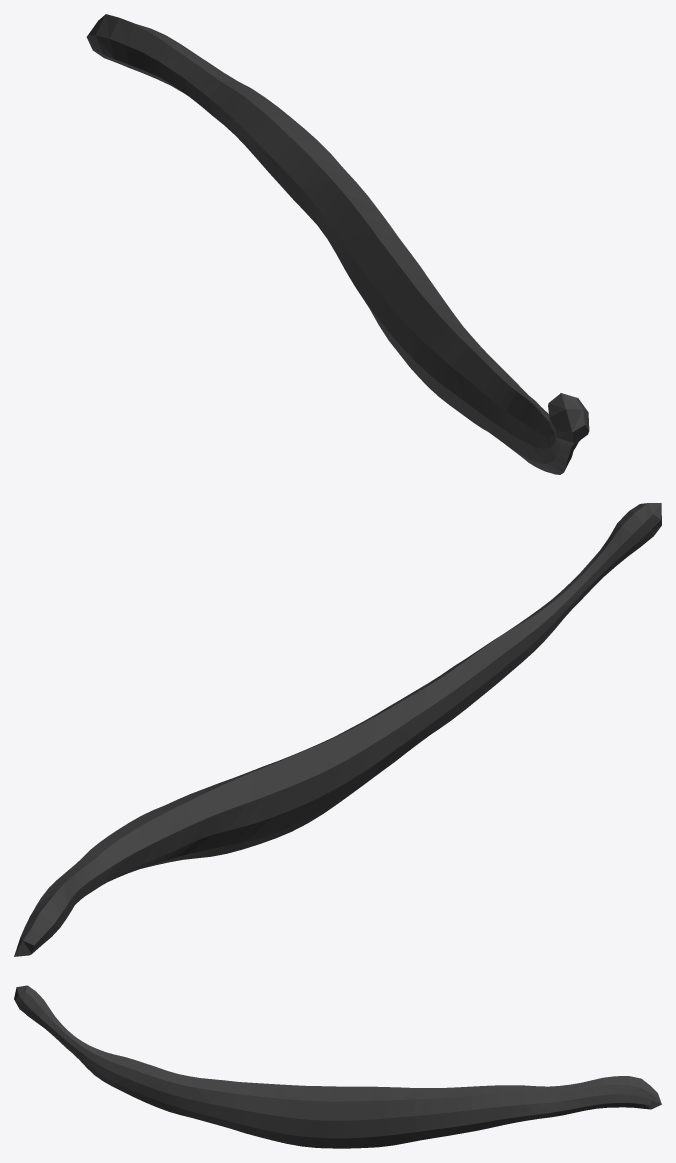
The model's file is Scalenus_medius.glb.
3 views of the same model, one above another, from view 1: azimuth 30°, elevation 25°; view 2: azimuth 150°, elevation 25°; view 3: azimuth 270°, elevation 25° (orthographic). The views are drawn at different scales.
Parts seen in each view (by area): view 1: Scalenus_medius; view 2: Scalenus_medius; view 3: Scalenus_medius.
Part boxes in pixels (box(x1,y1,x2,y2)): Scalenus_medius: box(86, 14, 589, 474); Scalenus_medius: box(14, 503, 661, 956); Scalenus_medius: box(14, 985, 661, 1148).
Bounding box in the file's own units: 0.1227 × 0.1222 × 0.5844.
Materials: 1 (1 with a texture image).
